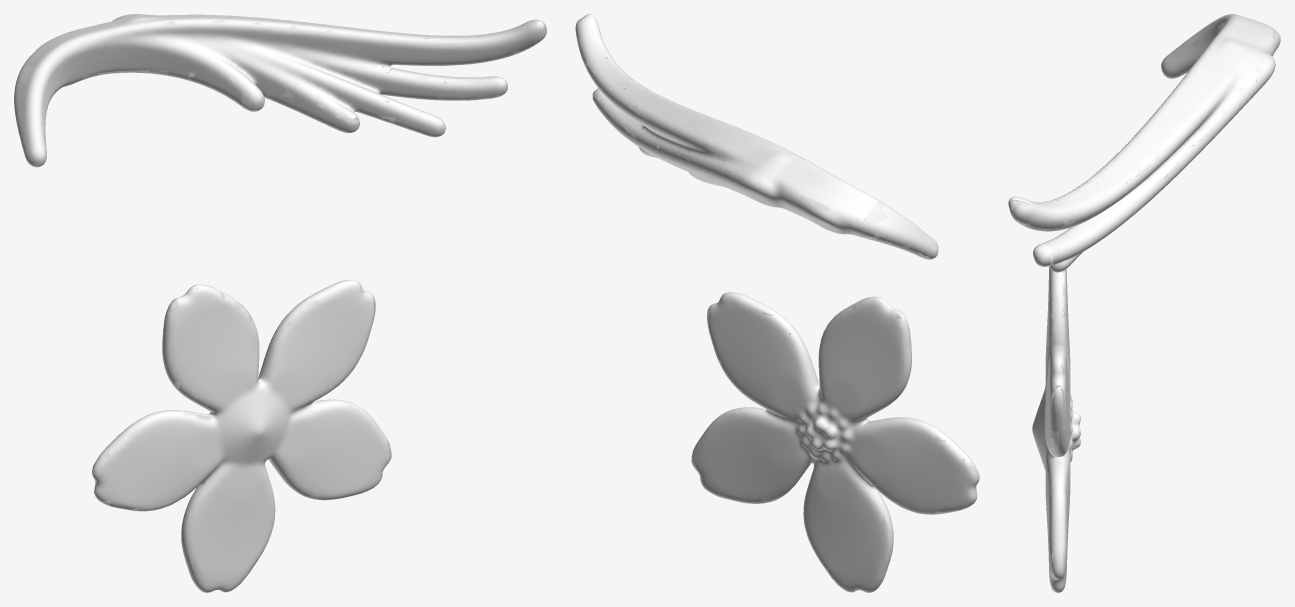
File: right-transformed.glb
3 views of the same model, side by side, from view 1: azimuth 30°, elevation 25°; view 2: azimuth 150°, elevation 25°; view 3: azimuth 270°, elevation 25° (orthographic). The views are drawn at different scales.
Visible parts, largest first — view 1: Right Side; view 2: Right Side; view 3: Right Side.
Boxes of the visible parts, x1,y1,x2,y2 form: Right Side: (14, 14, 546, 592); Right Side: (575, 14, 979, 592); Right Side: (1008, 14, 1280, 592).
Size of the model in its own units: 95.08 by 105 by 47.58.
1 material, 1 textured.
